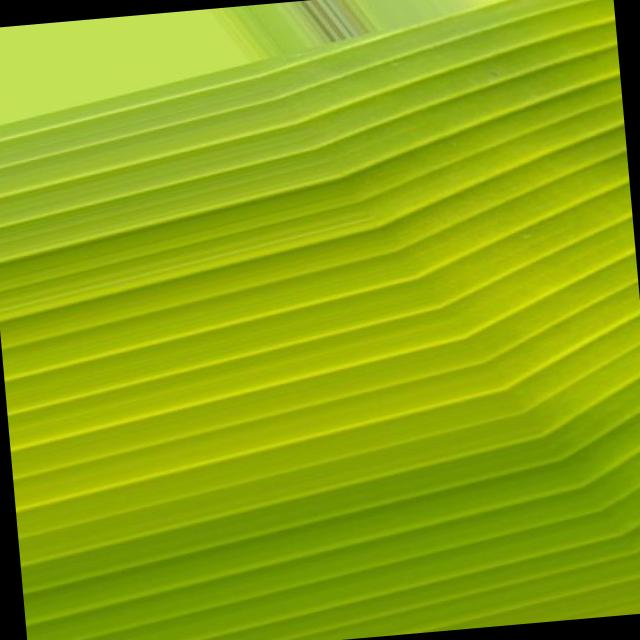Banana_Healthy: (143, 139, 572, 515)
